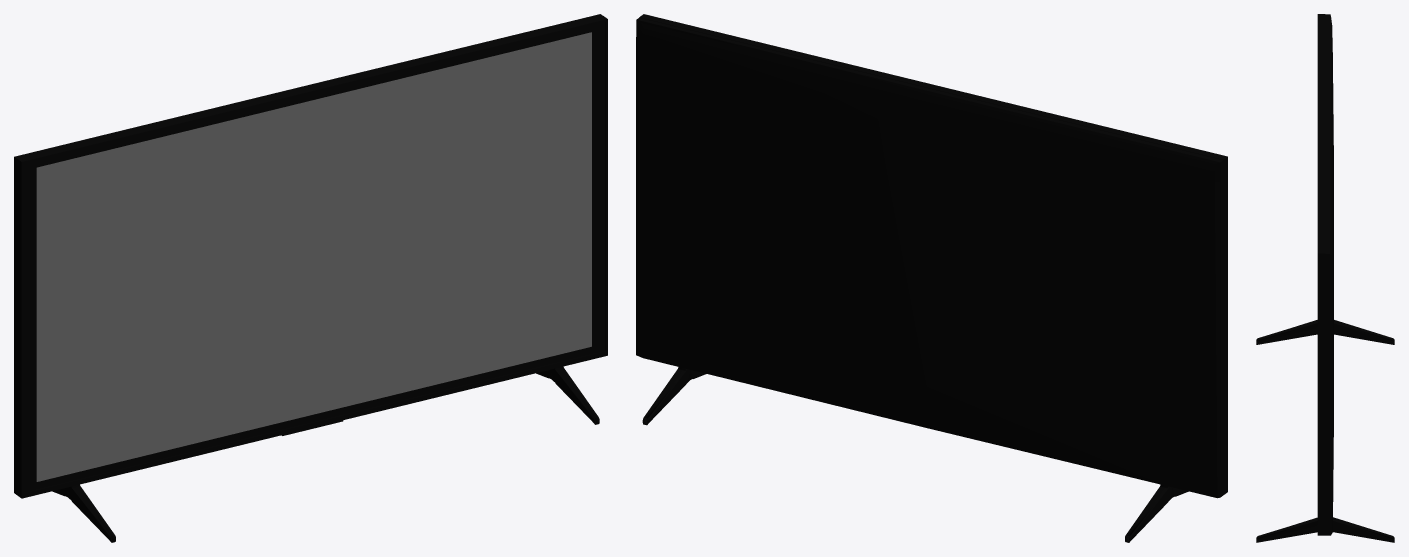
The model's file is objs_.glb.
3 views of the same model, side by side, from view 1: azimuth 30°, elevation 25°; view 2: azimuth 150°, elevation 25°; view 3: azimuth 270°, elevation 25° (orthographic). The views are drawn at different scales.
Parts seen in each view (by area): view 1: TV_TCL_50_INCHES; view 2: TV_TCL_50_INCHES; view 3: TV_TCL_50_INCHES.
Part boxes in pixels (x1,y1,x2,y2): TV_TCL_50_INCHES: (14, 14, 607, 542); TV_TCL_50_INCHES: (636, 14, 1227, 542); TV_TCL_50_INCHES: (1256, 14, 1394, 542).
Bounding box in the file's own units: 1.09 × 0.6499 × 0.265.
1 material, 1 textured.
